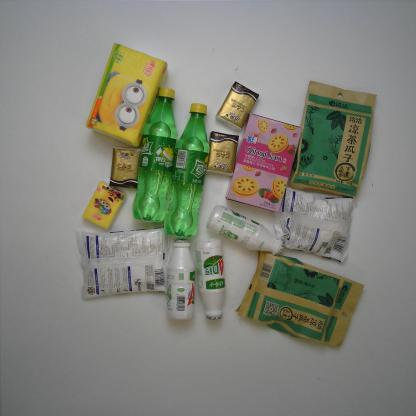Dessert: (223, 112, 302, 212)
Dried Food: (234, 249, 362, 342), (286, 79, 378, 196)
Drink: (132, 86, 180, 223), (163, 100, 206, 239)
Milk: (206, 204, 284, 256), (193, 235, 227, 322), (166, 234, 194, 320)
Seasoner: (75, 226, 170, 298), (272, 187, 353, 263)
Tissue: (84, 42, 168, 147), (215, 78, 260, 130), (80, 179, 124, 231), (202, 129, 240, 178), (107, 144, 141, 192)
